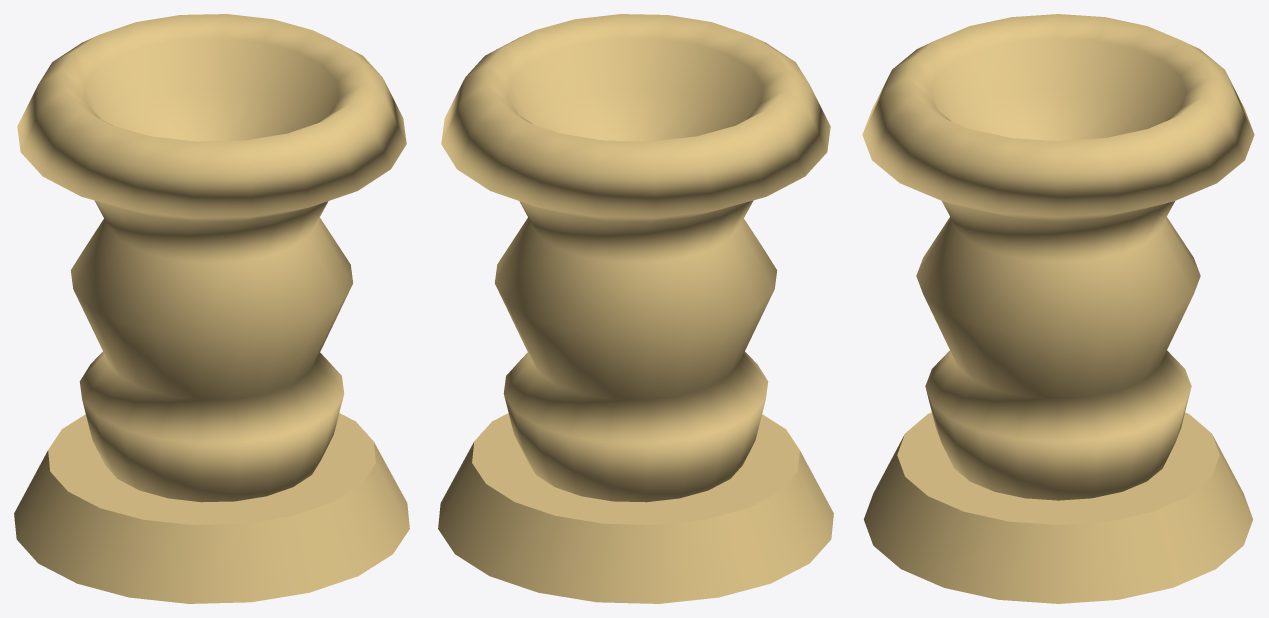
The model's file is Pottery 2.fbx.
The picture shows the model from 3 angles, left to right: view 1: azimuth 30°, elevation 25°; view 2: azimuth 150°, elevation 25°; view 3: azimuth 270°, elevation 25°; orthographic projection.
Parts seen in each view (by area): view 1: pTorus1.006; view 2: pTorus1.006; view 3: pTorus1.006.
Part boxes in pixels (x1,y1,x2,y2): pTorus1.006: (14, 14, 409, 603); pTorus1.006: (438, 14, 833, 603); pTorus1.006: (862, 14, 1254, 603).
Size of the model in its own units: 13315 by 16243 by 13065.
